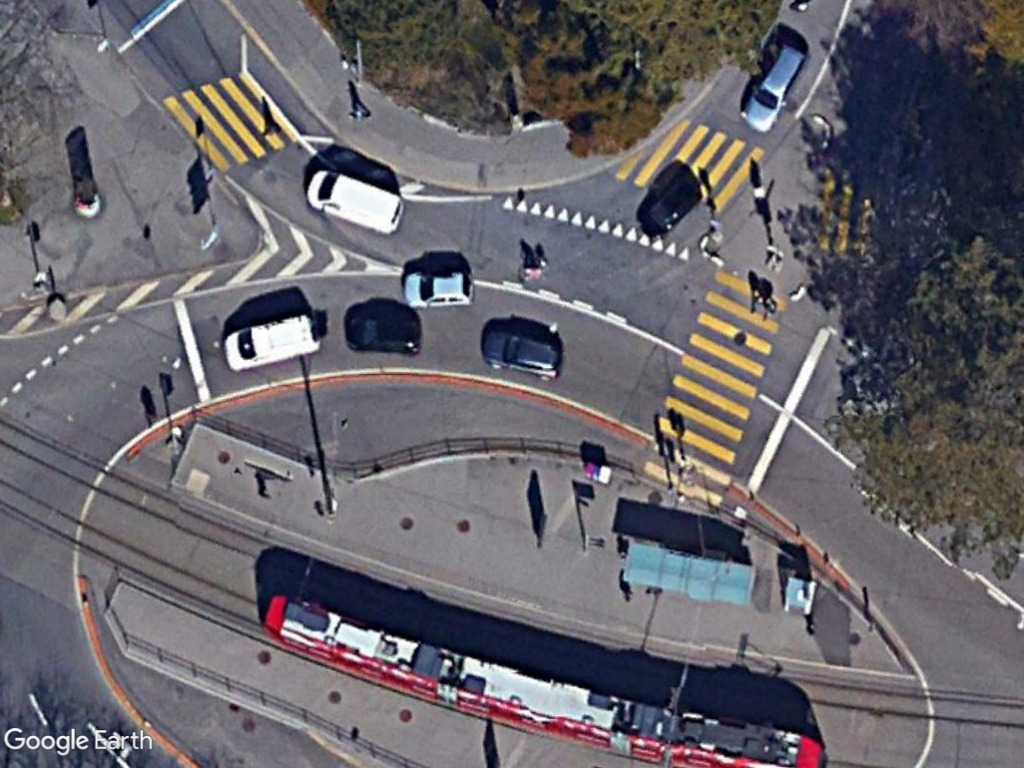car: (482, 323, 567, 382), (400, 266, 478, 310)
van: (306, 161, 405, 235), (738, 41, 811, 137), (217, 311, 326, 374)
